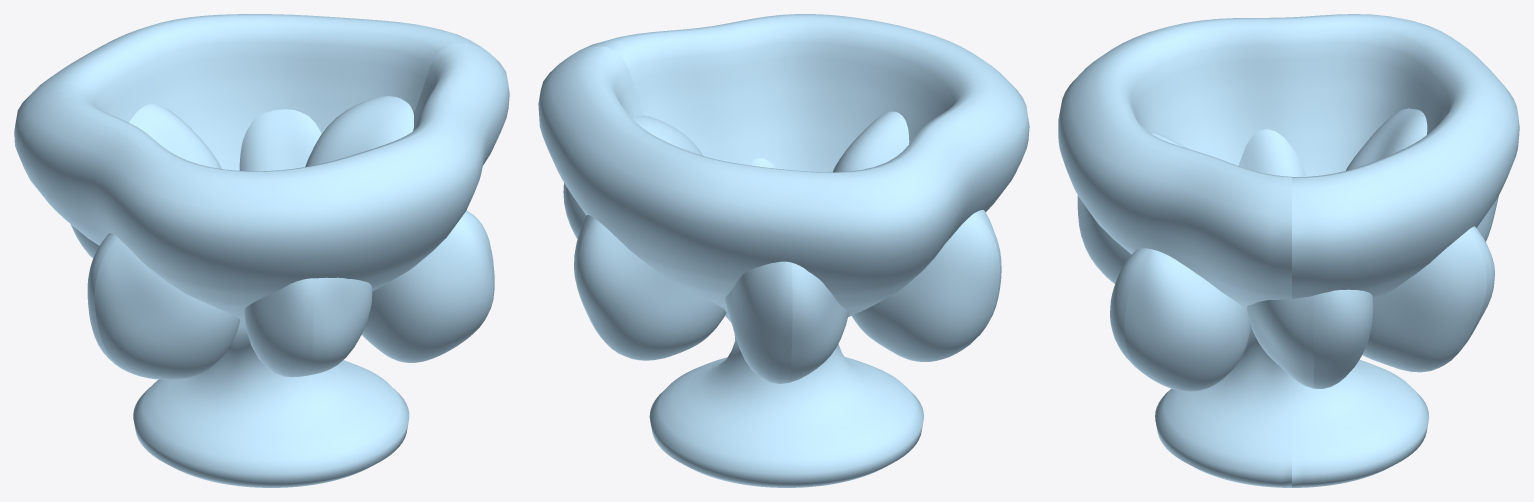
File: LovenseTipJar_Glass.dae
The picture shows the model from 3 angles, left to right: view 1: azimuth 30°, elevation 25°; view 2: azimuth 150°, elevation 25°; view 3: azimuth 270°, elevation 25°; orthographic projection.
Visible parts, largest first — view 1: Glass; view 2: Glass; view 3: Glass.
Boxes of the visible parts, bbox=[...] form: Glass: bbox=[14, 14, 509, 487]; Glass: bbox=[538, 14, 1029, 487]; Glass: bbox=[1058, 14, 1519, 487].
Size of the model in its own units: 0.4514 by 0.4228 by 0.3615.
